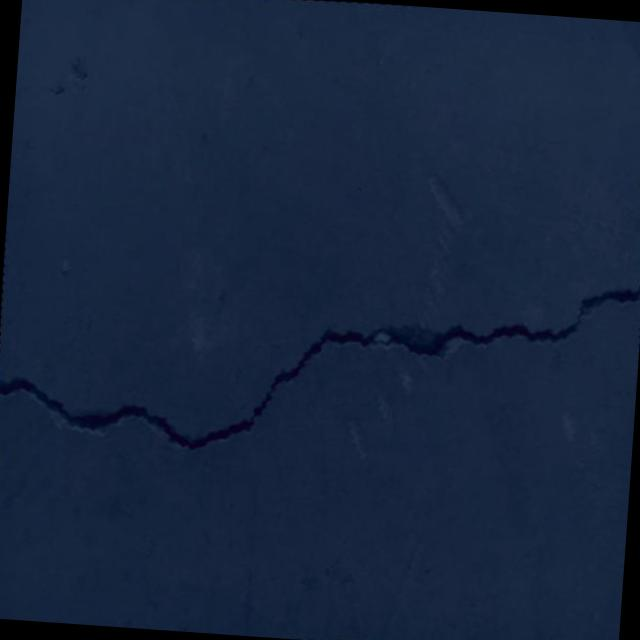crack: (0, 238, 640, 484)
